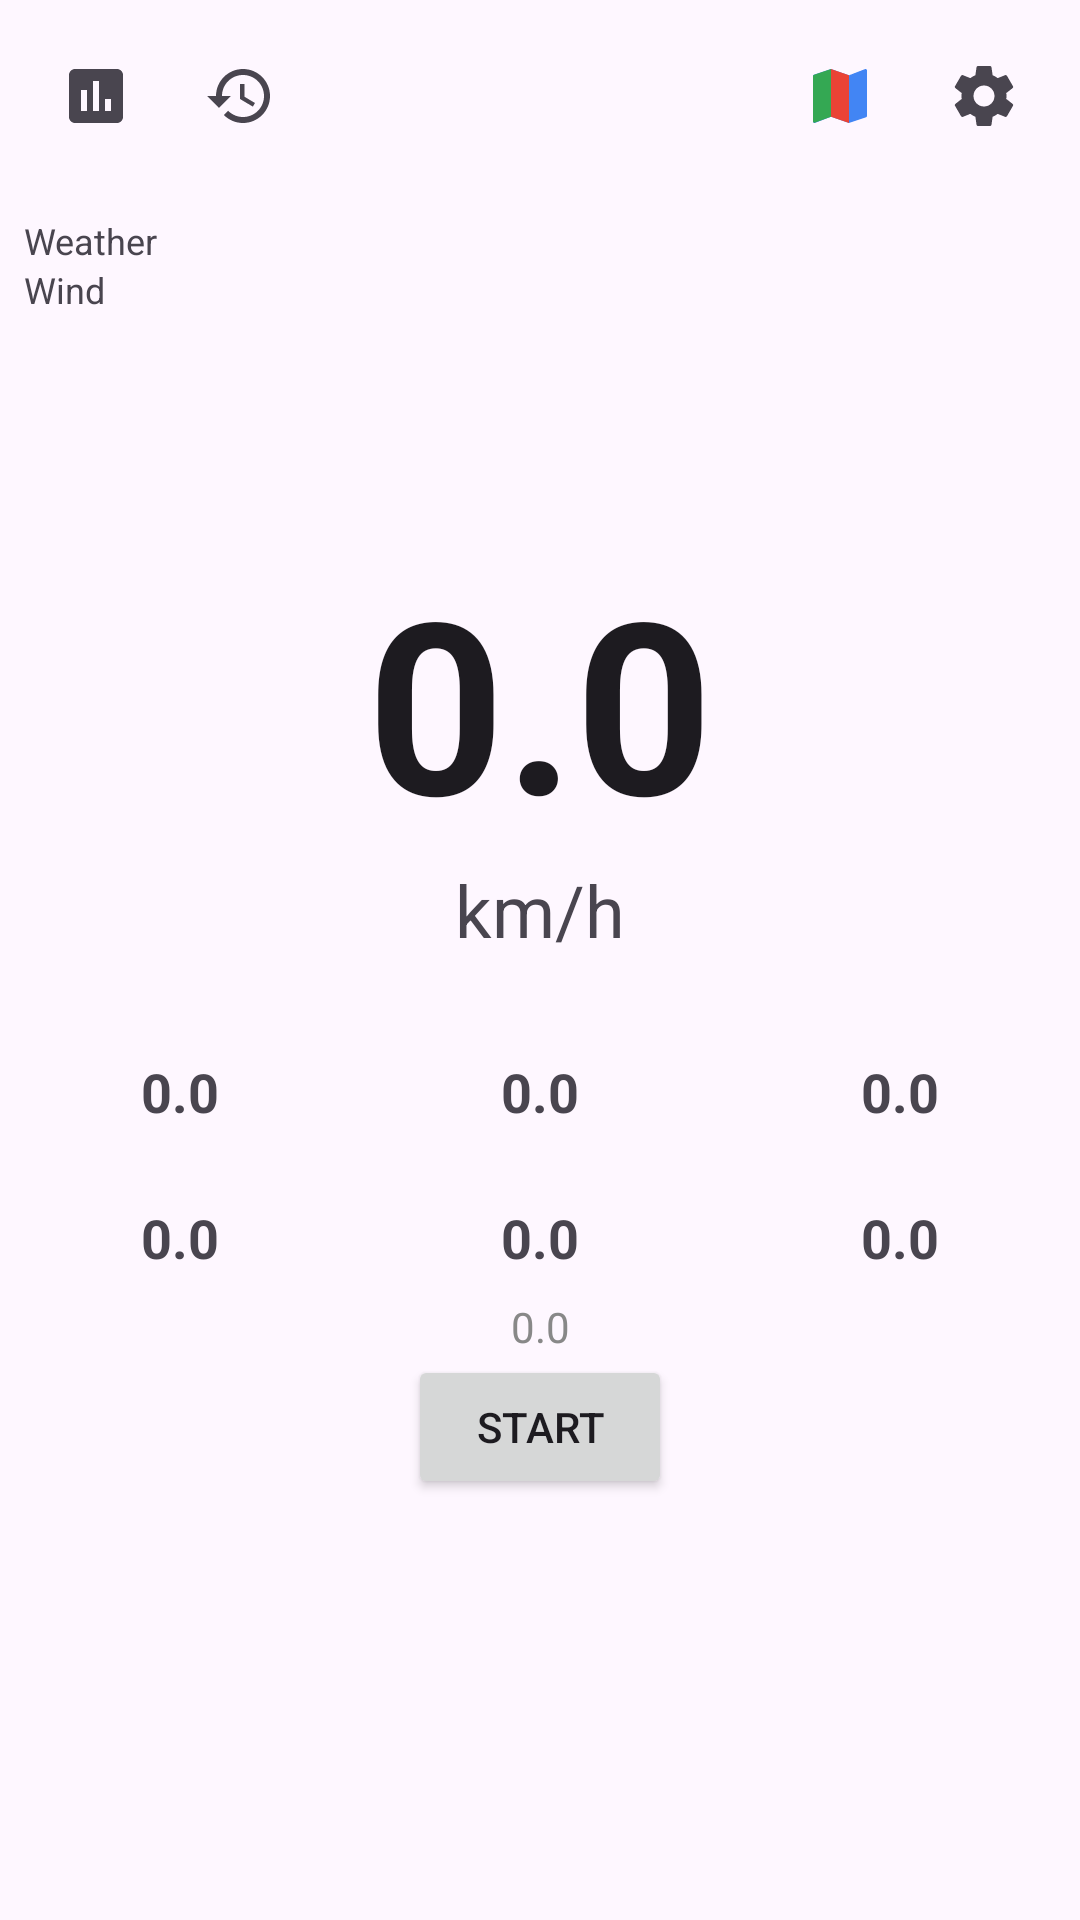

Icon bounding boxes for this 1080×1920 phone screenshot, format box=[x1, y1, x2, y2]:
History: box=[207, 69, 270, 123]
Map: box=[813, 69, 867, 123]
Settings: box=[955, 66, 1013, 126]
Statistics: box=[69, 69, 123, 123]
